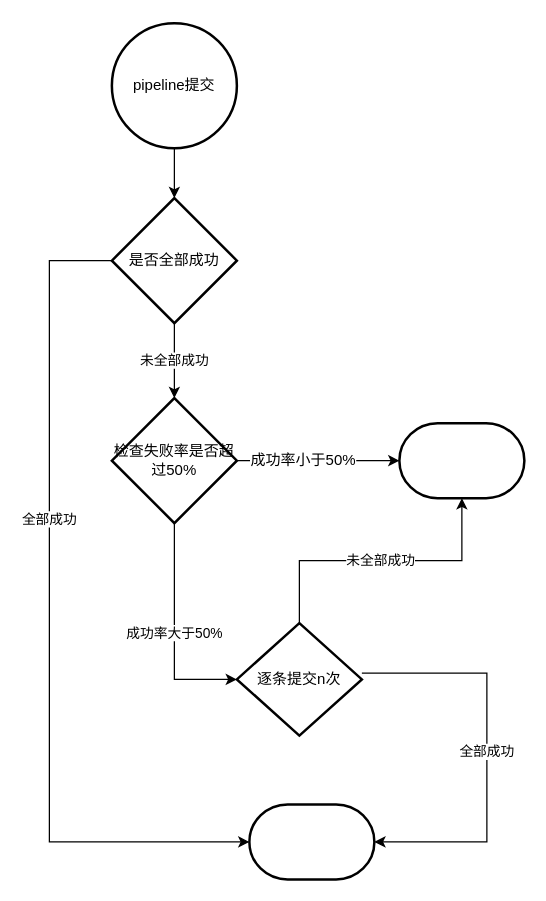
Some shapes in this 546 by 901 pixel diagram are drawn without their labels. Here are the shapes that lost their labels. From the top down, the box of each, then its label:
(398, 421, 525, 499): task panic
(248, 802, 375, 880): next pipeline
